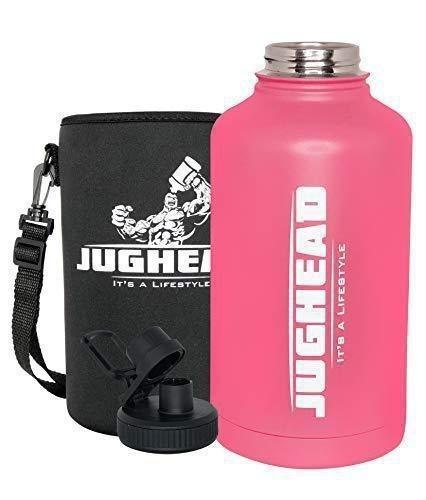gym bottle: (204, 39, 416, 474)
